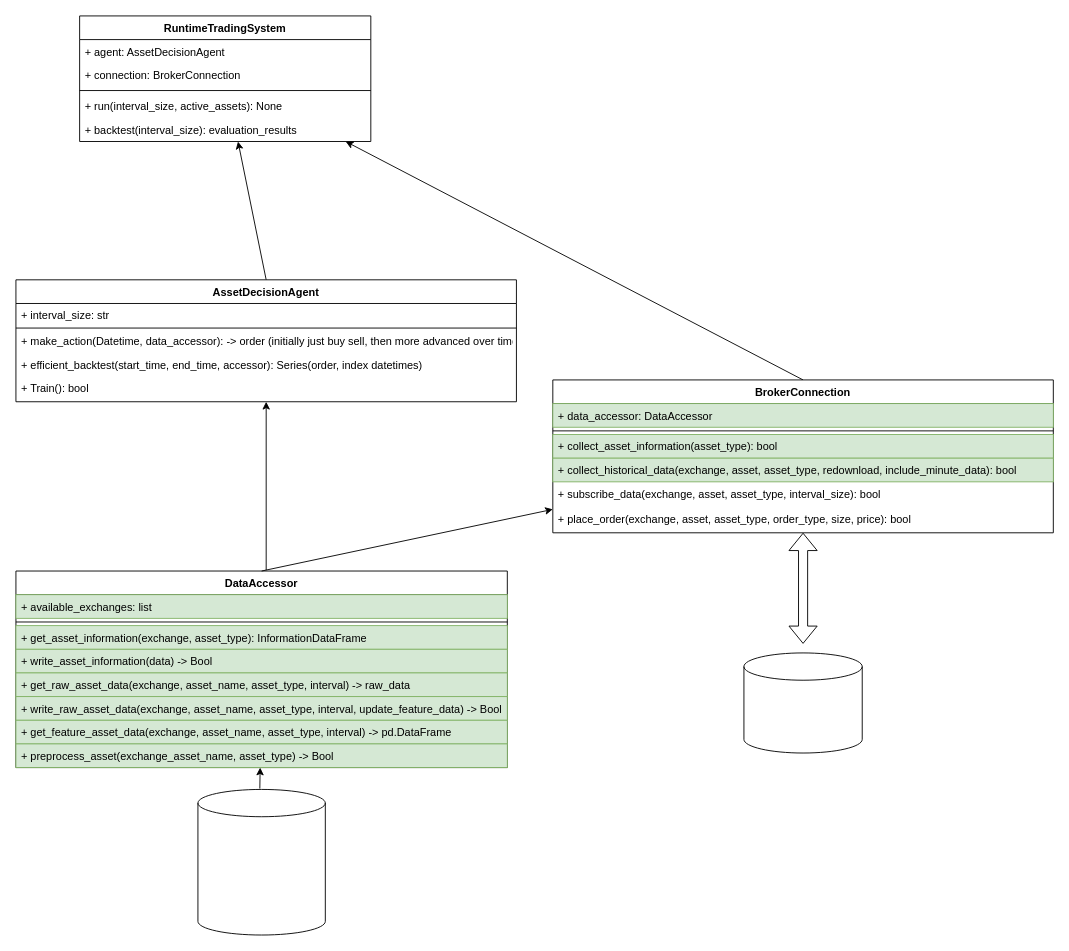
The diagram is 1069 pixels wide and 951 high, and some of its shapes have lost their labels. The shapes that lost their labels are listed below. From the top down, each one's centre as x and y in pixels, then its label:
At [802,702]: "Broker API".
At [261,862]: "DataBase".
